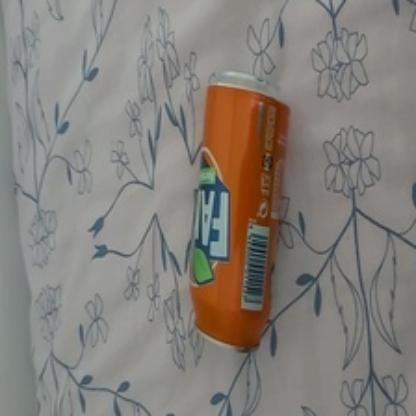Can: (187, 70, 293, 352)
